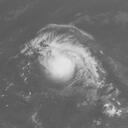cyclone: (21, 22, 108, 90)
